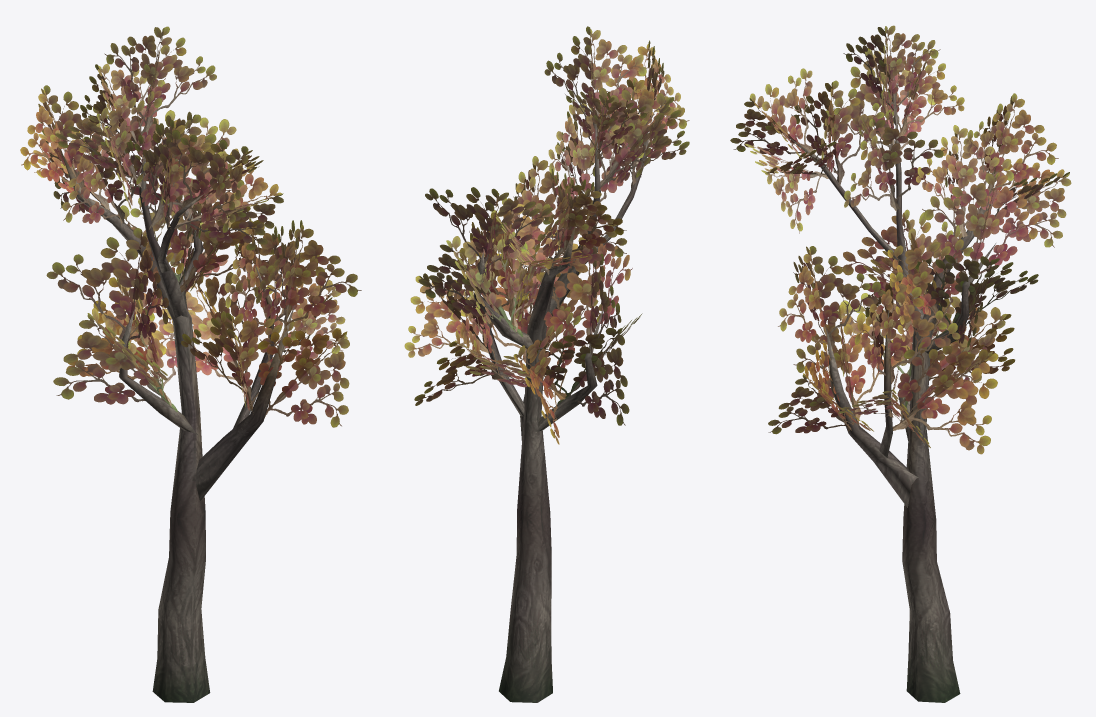
Rendered from tree2.glb.
3 views of the same model, side by side, from view 1: azimuth 30°, elevation 25°; view 2: azimuth 150°, elevation 25°; view 3: azimuth 270°, elevation 25° (orthographic). The views are drawn at different scales.
Parts seen in each view (by area): view 1: 小树; view 2: 小树; view 3: 小树.
Boxes of the visible parts, bbox=[...] form: 小树: bbox=[20, 26, 361, 702]; 小树: bbox=[404, 26, 689, 702]; 小树: bbox=[730, 25, 1071, 702].
Size of the model in its own units: 2.58 by 6.1 by 2.98.
Materials: 2 (2 with a texture image).
